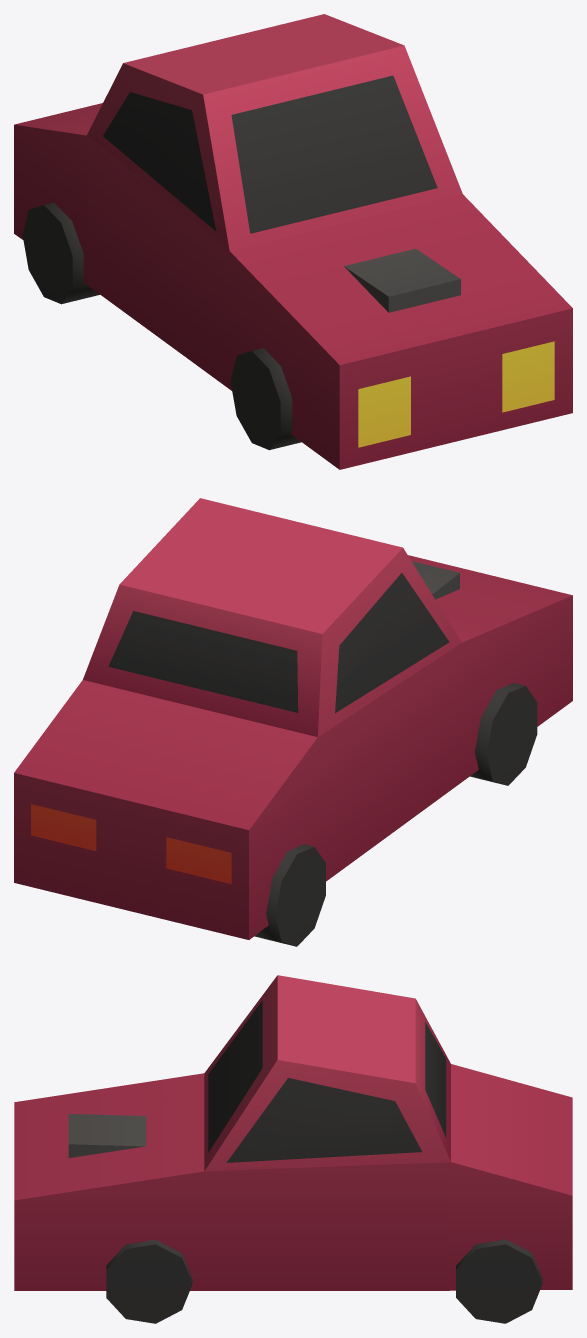
File: Car_7_4.fbx
The picture shows the model from 3 angles, top to bottom: view 1: azimuth 30°, elevation 25°; view 2: azimuth 150°, elevation 25°; view 3: azimuth 270°, elevation 25°; orthographic projection. The views are drawn at different scales.
Parts seen in each view (by area): view 1: Car_7_4; view 2: Car_7_4; view 3: Car_7_4.
Boxes of the visible parts, x1,y1,x2,y2 form: Car_7_4: [14, 14, 572, 469]; Car_7_4: [14, 498, 572, 946]; Car_7_4: [14, 975, 572, 1323].
Bounding box in the file's own units: 212 × 231 × 464.
